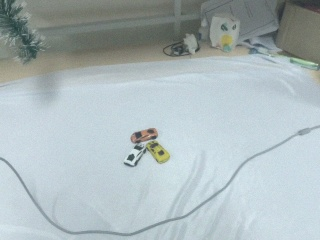box: (275, 1, 320, 72)
toy_car: (147, 140, 171, 164), (124, 143, 145, 168), (131, 128, 158, 143)
